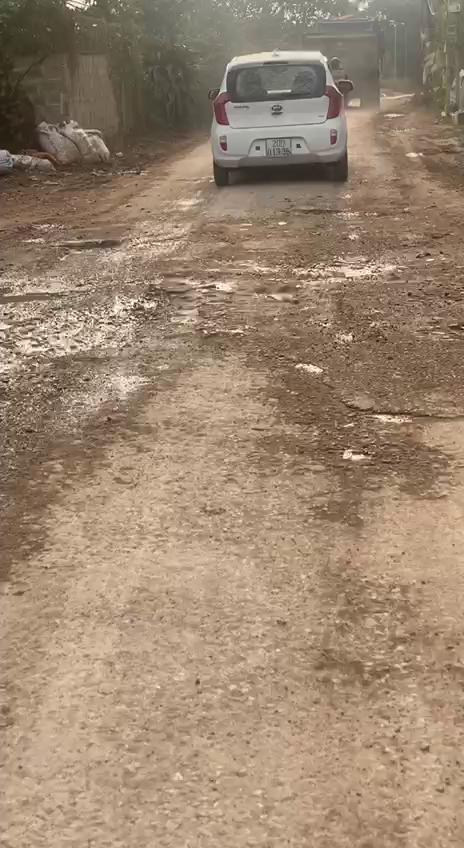pothole: (0, 273, 214, 379), (276, 250, 398, 284)
